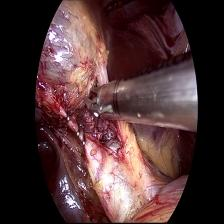Clipper: (81, 78, 125, 123)
